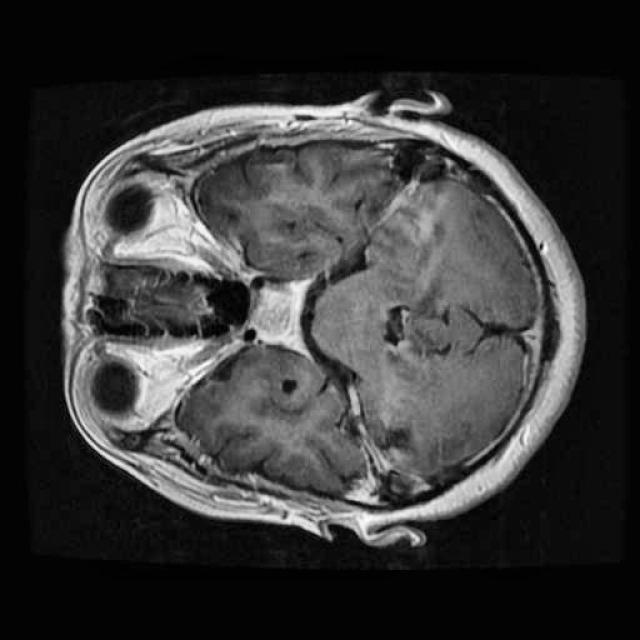Tumor: (241, 269, 309, 358)
